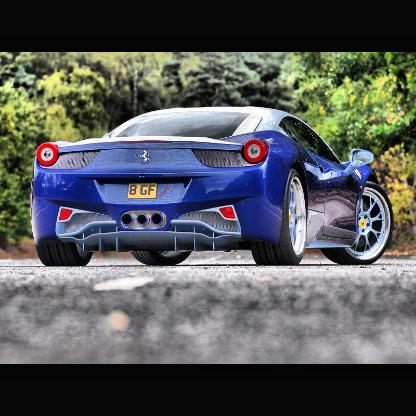Ferrari 458 Italia Coupe 2012: (32, 106, 395, 270)
